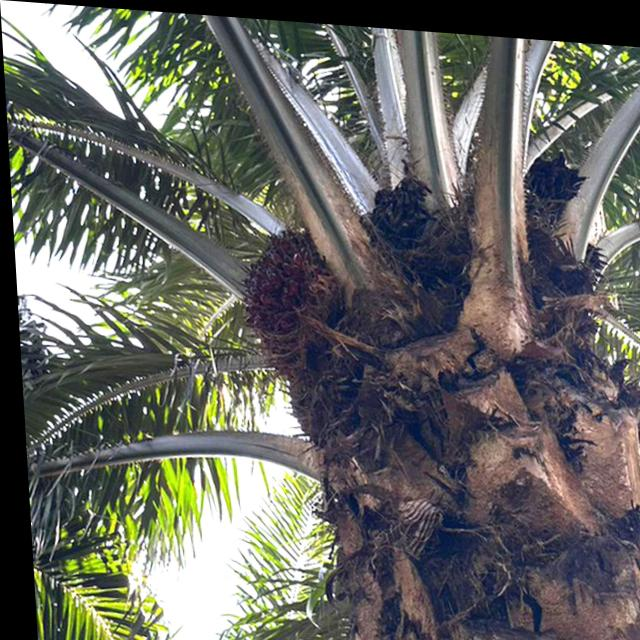ripe: (225, 206, 350, 376)
